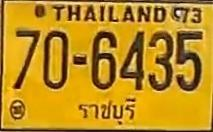0: (42, 30, 68, 88)
3: (147, 30, 173, 90)
4: (119, 30, 144, 90)
5: (176, 30, 202, 90)
6: (90, 30, 116, 89)
7: (14, 28, 40, 88)
RBR: (74, 95, 137, 127)
